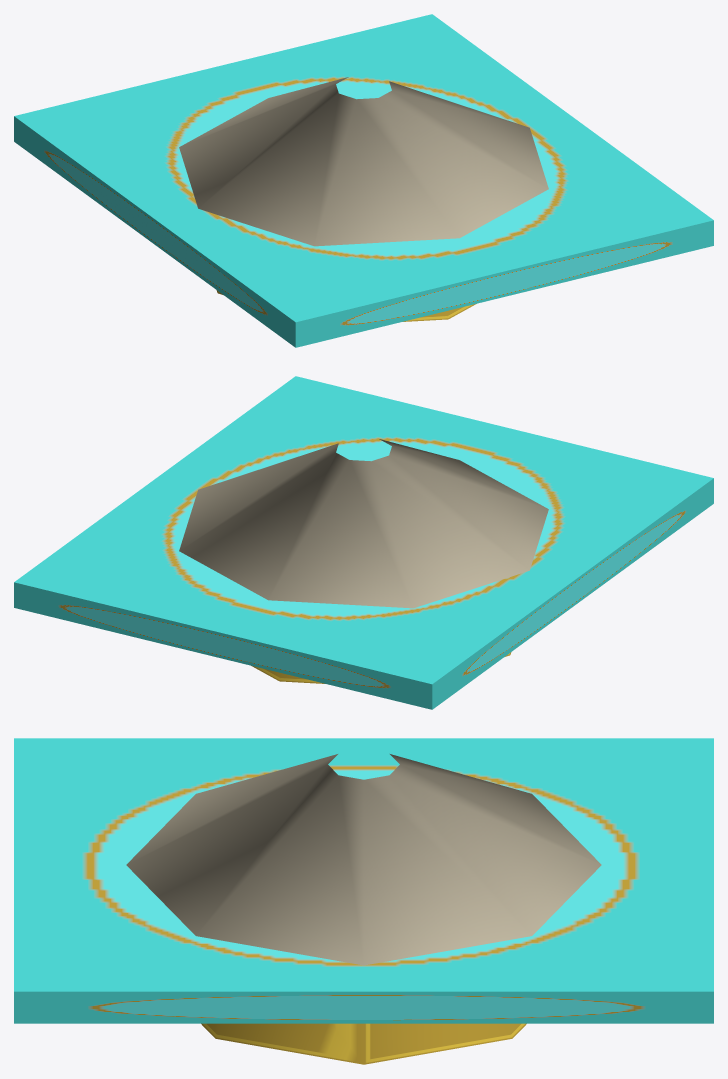
The model's file is ITEM_STAR_MAP_SCROLL.glb.
The picture shows the model from 3 angles, top to bottom: view 1: azimuth 30°, elevation 25°; view 2: azimuth 150°, elevation 25°; view 3: azimuth 270°, elevation 25°; orthographic projection. The views are drawn at different scales.
Parts seen in each view (by area): view 1: ITEM_STAR_MAP_SCROLL; view 2: ITEM_STAR_MAP_SCROLL; view 3: ITEM_STAR_MAP_SCROLL.
Part boxes in pixels (x1,y1,x2,y2): ITEM_STAR_MAP_SCROLL: [14, 14, 713, 347]; ITEM_STAR_MAP_SCROLL: [14, 376, 713, 709]; ITEM_STAR_MAP_SCROLL: [14, 738, 713, 1064].
Bounding box in the file's own units: 0.36 × 0.14 × 0.42.
Materials: 1 (1 with a texture image).
